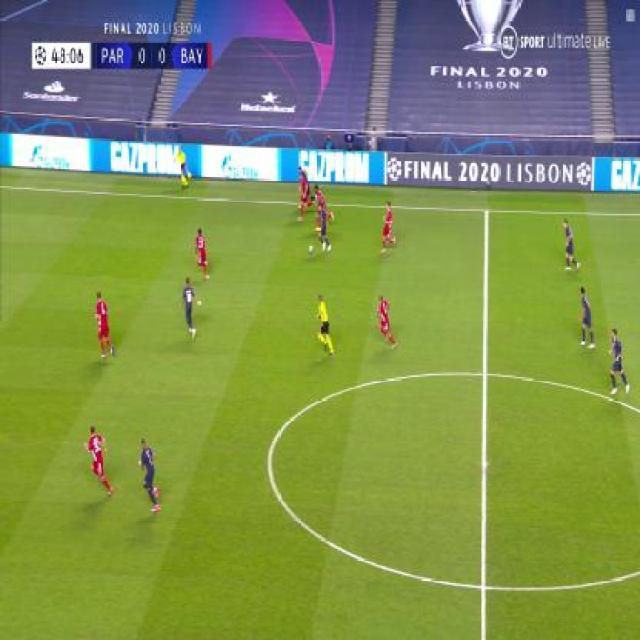ball: (308, 242, 314, 253)
player: (83, 425, 114, 499), (137, 438, 162, 514), (607, 326, 630, 397), (93, 291, 115, 362), (180, 278, 202, 341), (315, 293, 335, 359), (375, 293, 397, 349), (576, 286, 595, 349), (560, 219, 580, 273), (379, 200, 398, 254), (194, 228, 211, 281), (174, 146, 193, 191), (298, 172, 315, 221), (316, 203, 332, 254), (312, 186, 325, 203)
